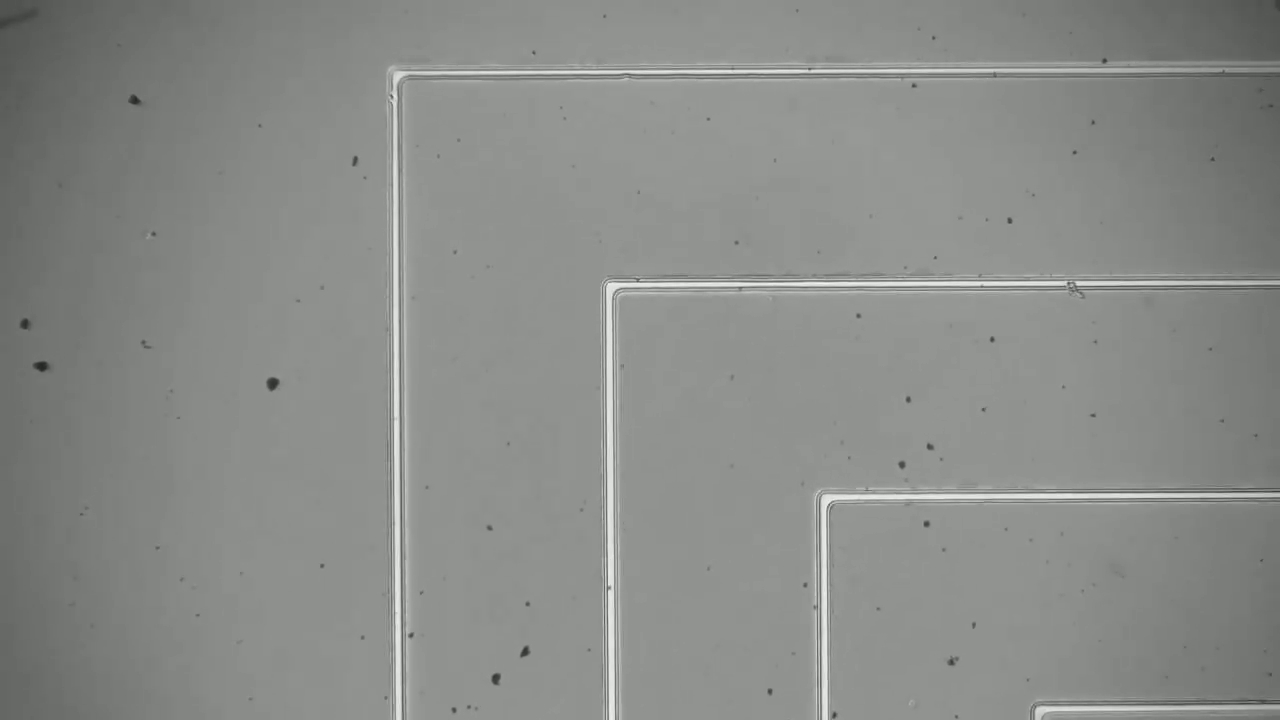stains_enbedded: (1052, 267, 1098, 306)
